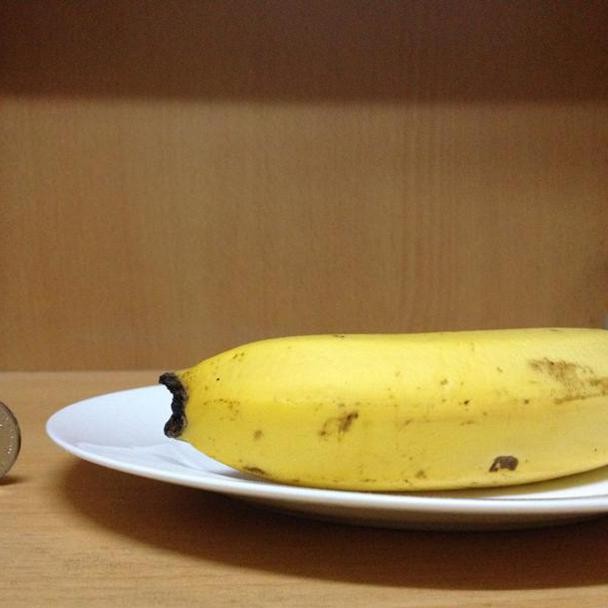banana: (152, 316, 607, 496)
